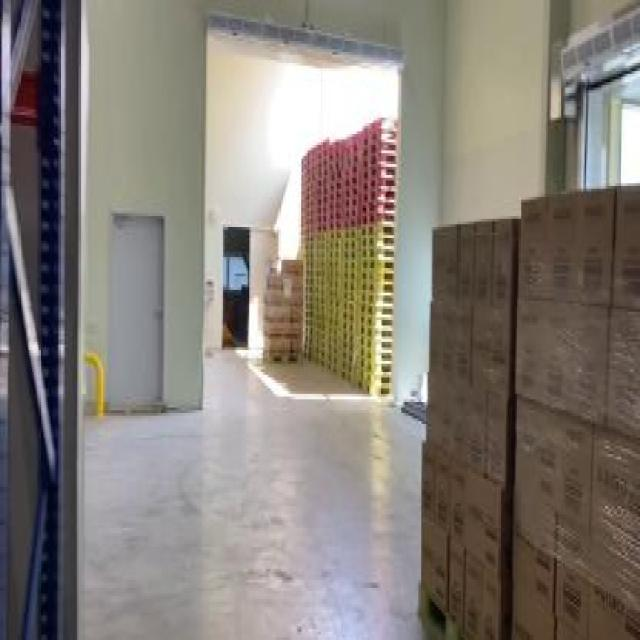box: (514, 189, 638, 637), (417, 211, 512, 637), (260, 260, 303, 366)
